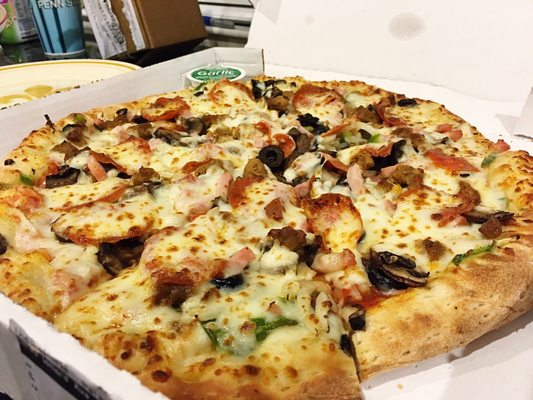sandwich: (0, 73, 533, 399)
